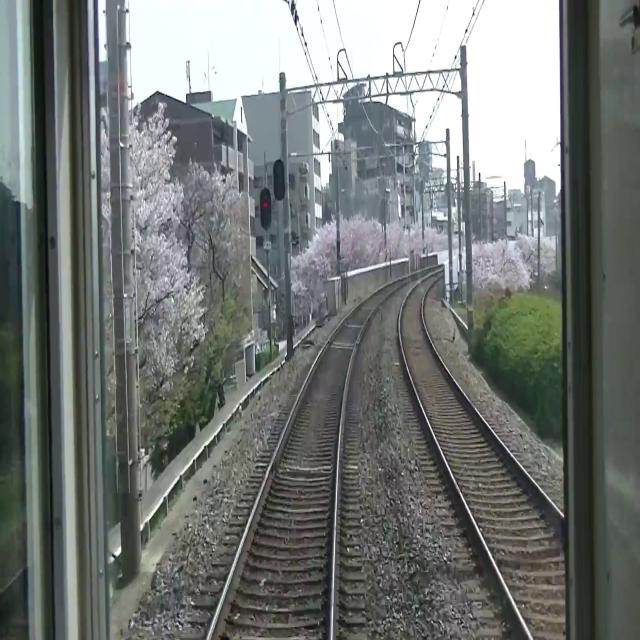rail-track: (210, 276, 410, 639), (400, 270, 516, 600)
